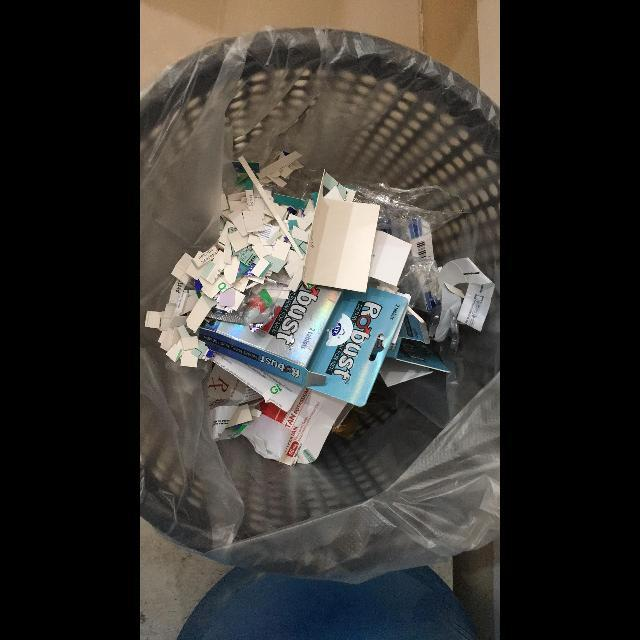paper: (197, 282, 409, 407), (302, 179, 380, 293), (386, 311, 450, 373), (243, 211, 266, 233)
plastic: (343, 182, 472, 240)
